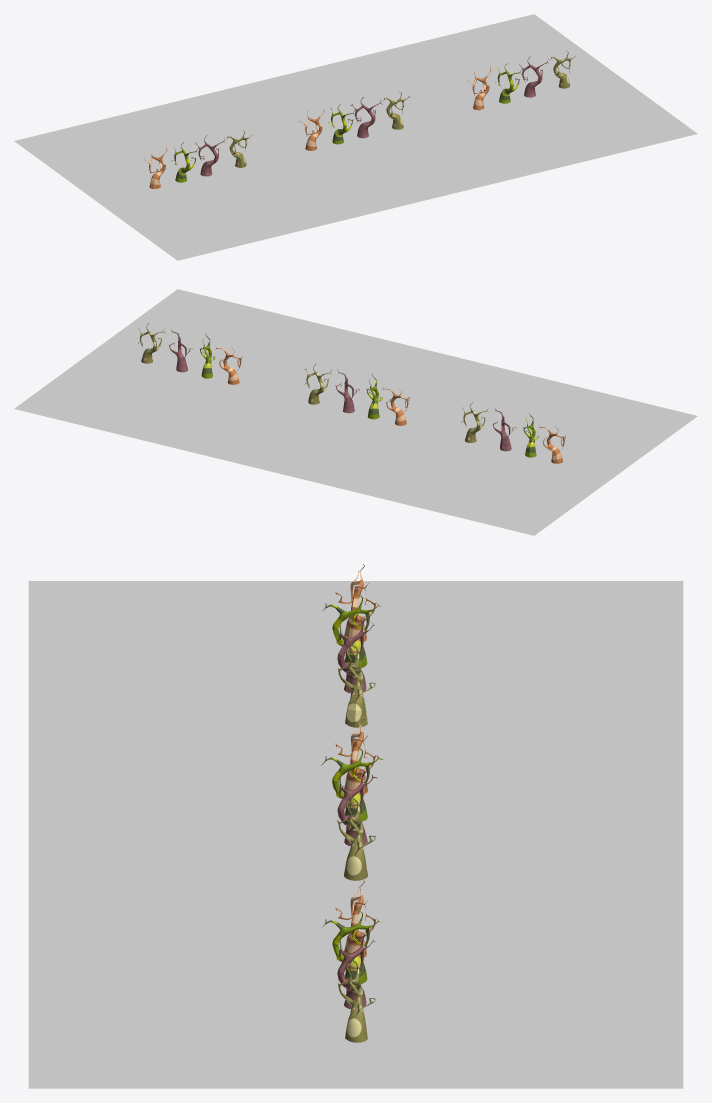
File: toon_tree_02.glb
3 renders of one model, top to bottom at view 1: azimuth 30°, elevation 25°; view 2: azimuth 150°, elevation 25°; view 3: azimuth 270°, elevation 25°, orthographic. The views are drawn at different scales.
Parts seen in each view (by area): view 1: Plane; view 2: Plane; view 3: Plane, tree_02 01, tree_02 LP Faceted 01, tree_02 LP Smooth 01, tree_02 03, tree_02 LP Faceted 03, tree_02 LP Smooth 03, tree_02 04, tree_02 LP Smooth 04, tree_02 LP Faceted 04, tree_02 02.
Boxes of the visible parts, x1=… form: Plane: x1=14, y1=14, x2=697, y2=260; Plane: x1=14, y1=289, x2=697, y2=535; Plane: x1=28, y1=581, x2=683, y2=1088; tree_02 01: x1=337, y1=790, x2=375, y2=880; tree_02 LP Faceted 01: x1=337, y1=637, x2=375, y2=727; tree_02 LP Smooth 01: x1=337, y1=952, x2=375, y2=1042; tree_02 03: x1=321, y1=745, x2=383, y2=821; tree_02 LP Faceted 03: x1=323, y1=593, x2=381, y2=668; tree_02 LP Smooth 03: x1=322, y1=908, x2=379, y2=984; tree_02 04: x1=335, y1=716, x2=376, y2=794; tree_02 LP Smooth 04: x1=335, y1=880, x2=376, y2=957; tree_02 LP Faceted 04: x1=335, y1=564, x2=376, y2=641; tree_02 02: x1=337, y1=769, x2=377, y2=846.
Bounding box in the file's own units: 4.44 × 0.3079 × 2.42.
5 materials, 4 textured.
